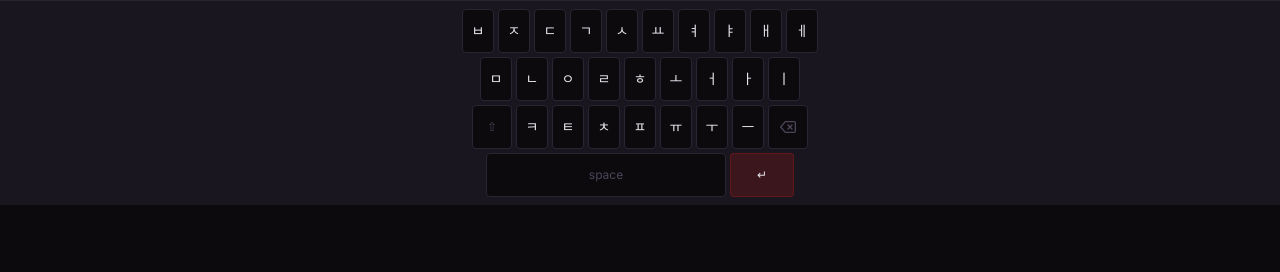
it: HangulKeyboard › auto-deactivates shift after pressing a key
Activate shift
What coordinates should you click on to do the following:
click the button "⇧"
I would click on:
 (492, 127)
Its box is [472, 105, 512, 149].
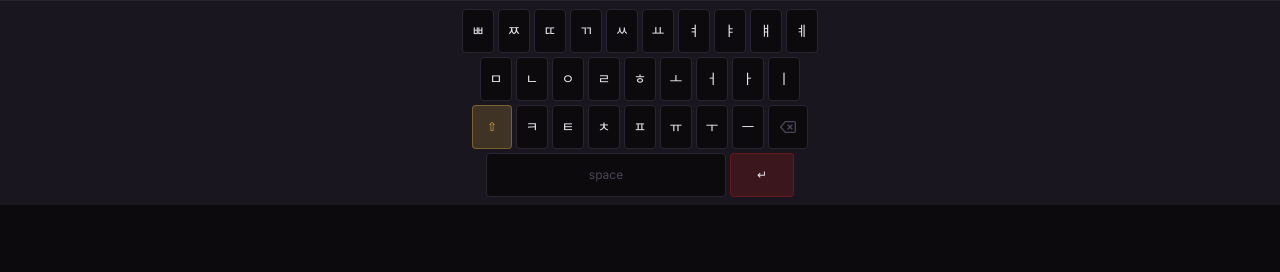
Check: the button "ㅃ" is shown
Press a shifted key
What coordinates should you click on to do the following:
click the button "ㅃ"
I would click on:
 (478, 31)
Its box is [462, 9, 494, 53].
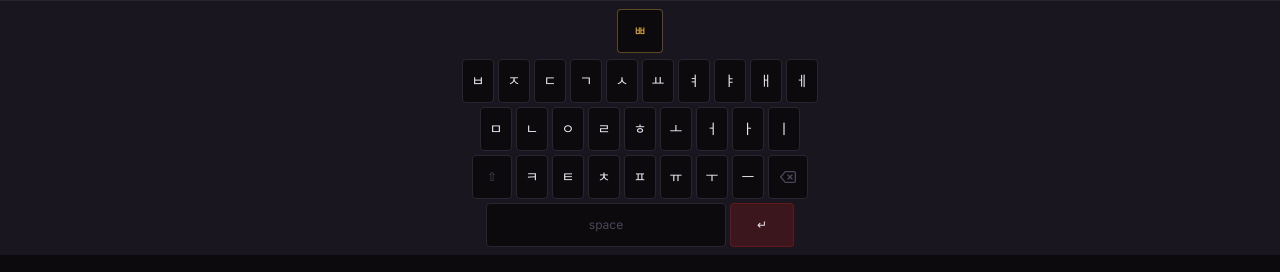
Check: the button "ㅂ" is shown, box [462, 59, 494, 103]
